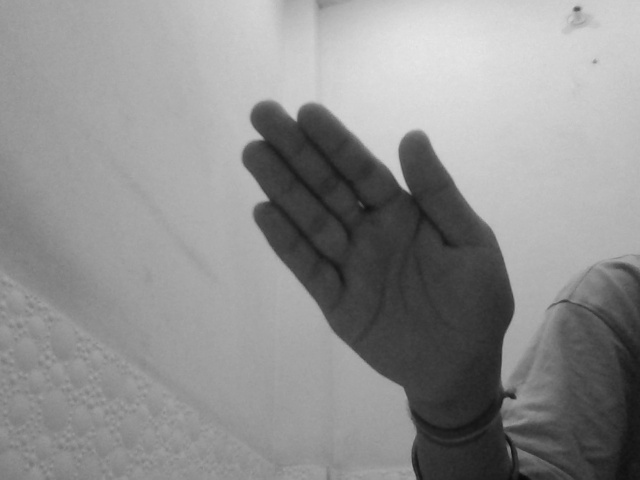Hello: (238, 91, 520, 406)
